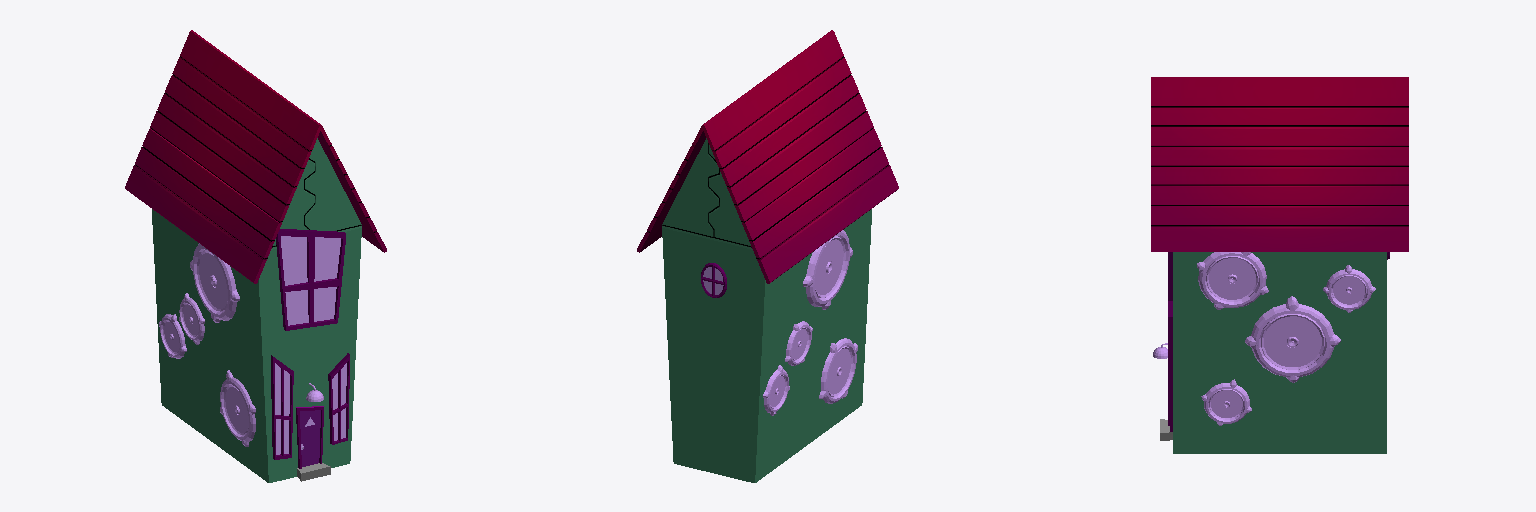
3 views of the same model, side by side, from view 1: azimuth 30°, elevation 25°; view 2: azimuth 150°, elevation 25°; view 3: azimuth 270°, elevation 25° (orthographic).
Parts seen in each view (by area): view 1: zim_house2_reference; view 2: zim_house2_reference; view 3: zim_house2_reference.
Part boxes in pixels (bbox=[...]): zim_house2_reference: bbox=[125, 30, 386, 482]; zim_house2_reference: bbox=[637, 30, 898, 482]; zim_house2_reference: bbox=[1151, 77, 1408, 453].
Bounding box in the file's own units: 0.9308 × 2.37 × 1.56.
2 materials, 1 textured.